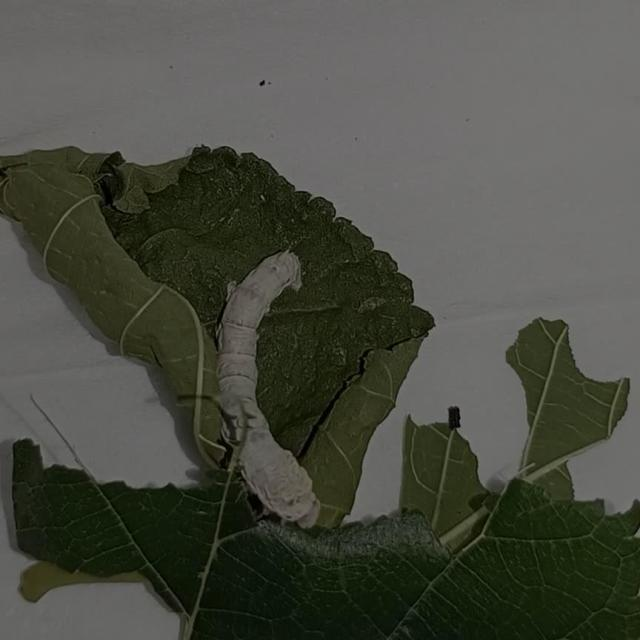Healthy: (198, 237, 346, 540)
